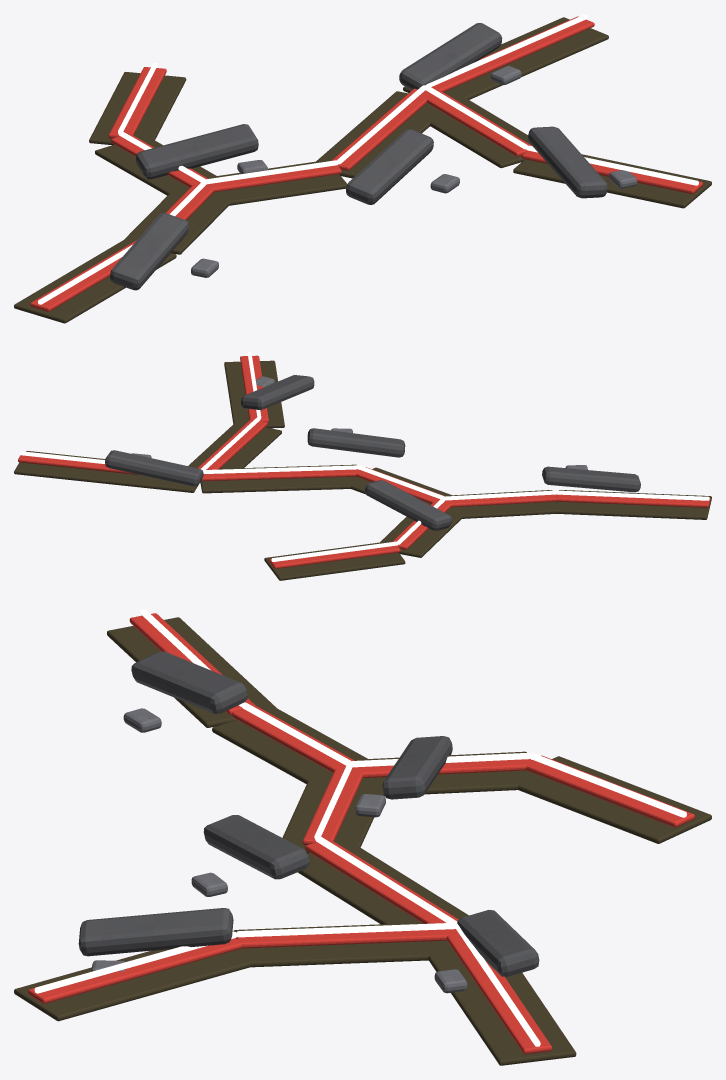
File: cult_rift_fracture.glb
The picture shows the model from 3 angles, top to bottom: view 1: azimuth 30°, elevation 25°; view 2: azimuth 150°, elevation 25°; view 3: azimuth 270°, elevation 25°; orthographic projection. The views are drawn at different scales.
Visible parts, largest first — view 1: CULT_RIFT_FRACTURE__Lifted_Seam_Lip_1, CULT_RIFT_FRACTURE__Lifted_Seam_Lip_2, CULT_RIFT_FRACTURE__Lifted_Seam_Lip_3, CULT_RIFT_FRACTURE__Lifted_Seam_Lip_0, CULT_RIFT_FRACTURE__Split_Seam_0_4, CULT_RIFT_FRACTURE__Split_Seam_1_1, CULT_RIFT_FRACTURE__Lifted_Seam_Lip_4, CULT_RIFT_FRACTURE__Split_Seam_0_0, CULT_RIFT_FRACTURE__Split_Seam_2_1, CULT_RIFT_FRACTURE__Split_Seam_2_0, CULT_RIFT_FRACTURE__Split_Seam_0_3, CULT_RIFT_FRACTURE__Split_Seam_0_2 (+17 smaller); view 2: CULT_RIFT_FRACTURE__Split_Seam_0_4, CULT_RIFT_FRACTURE__Split_Seam_0_0, CULT_RIFT_FRACTURE__Split_Seam_0_3, CULT_RIFT_FRACTURE__Split_Seam_1_1, CULT_RIFT_FRACTURE__Lifted_Seam_Lip_1, CULT_RIFT_FRACTURE__Lifted_Seam_Lip_3, CULT_RIFT_FRACTURE__Lifted_Seam_Lip_2, CULT_RIFT_FRACTURE__Lifted_Seam_Lip_0, CULT_RIFT_FRACTURE__Split_Seam_2_1, CULT_RIFT_FRACTURE__Split_Seam_2_0, CULT_RIFT_FRACTURE__Split_Seam_0_1, CULT_RIFT_FRACTURE__Lifted_Seam_Lip_4 (+17 smaller); view 3: CULT_RIFT_FRACTURE__Lifted_Seam_Lip_4, CULT_RIFT_FRACTURE__Split_Seam_0_4, CULT_RIFT_FRACTURE__Split_Seam_2_1, CULT_RIFT_FRACTURE__Split_Seam_1_1, CULT_RIFT_FRACTURE__Split_Seam_2_0, CULT_RIFT_FRACTURE__Split_Seam_0_3, CULT_RIFT_FRACTURE__Lifted_Seam_Lip_0, CULT_RIFT_FRACTURE__Lifted_Seam_Lip_2, CULT_RIFT_FRACTURE__Split_Seam_0_1, CULT_RIFT_FRACTURE__Split_Seam_0_0, CULT_RIFT_FRACTURE__Lifted_Seam_Lip_3, CULT_RIFT_FRACTURE__Split_Seam_0_2 (+18 smaller).
Boxes of the visible parts, x1,y1,x2,y2 form: CULT_RIFT_FRACTURE__Lifted_Seam_Lip_1: [136, 124, 258, 179]; CULT_RIFT_FRACTURE__Lifted_Seam_Lip_2: [346, 129, 433, 204]; CULT_RIFT_FRACTURE__Lifted_Seam_Lip_3: [399, 23, 502, 89]; CULT_RIFT_FRACTURE__Lifted_Seam_Lip_0: [110, 213, 188, 290]; CULT_RIFT_FRACTURE__Split_Seam_0_4: [403, 17, 608, 100]; CULT_RIFT_FRACTURE__Split_Seam_1_1: [89, 72, 186, 145]; CULT_RIFT_FRACTURE__Lifted_Seam_Lip_4: [528, 126, 607, 198]; CULT_RIFT_FRACTURE__Split_Seam_0_0: [14, 239, 176, 323]; CULT_RIFT_FRACTURE__Split_Seam_2_1: [513, 154, 711, 208]; CULT_RIFT_FRACTURE__Split_Seam_2_0: [417, 97, 530, 168]; CULT_RIFT_FRACTURE__Split_Seam_0_3: [315, 91, 440, 178]; CULT_RIFT_FRACTURE__Split_Seam_0_2: [207, 161, 347, 205]; CULT_RIFT_FRACTURE__Split_Seam_0_4: [14, 451, 198, 492]; CULT_RIFT_FRACTURE__Split_Seam_0_0: [555, 490, 711, 519]; CULT_RIFT_FRACTURE__Split_Seam_0_3: [200, 464, 359, 493]; CULT_RIFT_FRACTURE__Split_Seam_1_1: [264, 541, 405, 580]; CULT_RIFT_FRACTURE__Lifted_Seam_Lip_1: [365, 480, 451, 530]; CULT_RIFT_FRACTURE__Lifted_Seam_Lip_3: [105, 450, 203, 486]; CULT_RIFT_FRACTURE__Lifted_Seam_Lip_2: [307, 428, 405, 457]; CULT_RIFT_FRACTURE__Lifted_Seam_Lip_0: [542, 466, 640, 492]; CULT_RIFT_FRACTURE__Split_Seam_2_1: [224, 360, 284, 428]; CULT_RIFT_FRACTURE__Split_Seam_2_0: [188, 422, 281, 483]; CULT_RIFT_FRACTURE__Split_Seam_0_1: [447, 490, 556, 518]; CULT_RIFT_FRACTURE__Lifted_Seam_Lip_4: [241, 375, 314, 410]; CULT_RIFT_FRACTURE__Lifted_Seam_Lip_4: [78, 908, 233, 956]; CULT_RIFT_FRACTURE__Split_Seam_0_4: [424, 941, 576, 1065]; CULT_RIFT_FRACTURE__Split_Seam_2_1: [14, 949, 250, 1021]; CULT_RIFT_FRACTURE__Split_Seam_1_1: [509, 756, 711, 843]; CULT_RIFT_FRACTURE__Split_Seam_2_0: [233, 923, 455, 967]; CULT_RIFT_FRACTURE__Split_Seam_0_3: [298, 841, 468, 945]; CULT_RIFT_FRACTURE__Lifted_Seam_Lip_0: [131, 651, 247, 713]; CULT_RIFT_FRACTURE__Lifted_Seam_Lip_2: [203, 815, 309, 879]; CULT_RIFT_FRACTURE__Split_Seam_0_1: [212, 708, 369, 784]; CULT_RIFT_FRACTURE__Split_Seam_0_0: [107, 617, 276, 727]; CULT_RIFT_FRACTURE__Lifted_Seam_Lip_3: [457, 910, 539, 976]; CULT_RIFT_FRACTURE__Split_Seam_0_2: [282, 774, 384, 853].
Size of the model in its own units: 1.57 by 0.0744 by 1.04.
Materials: 5 (2 with a texture image).
